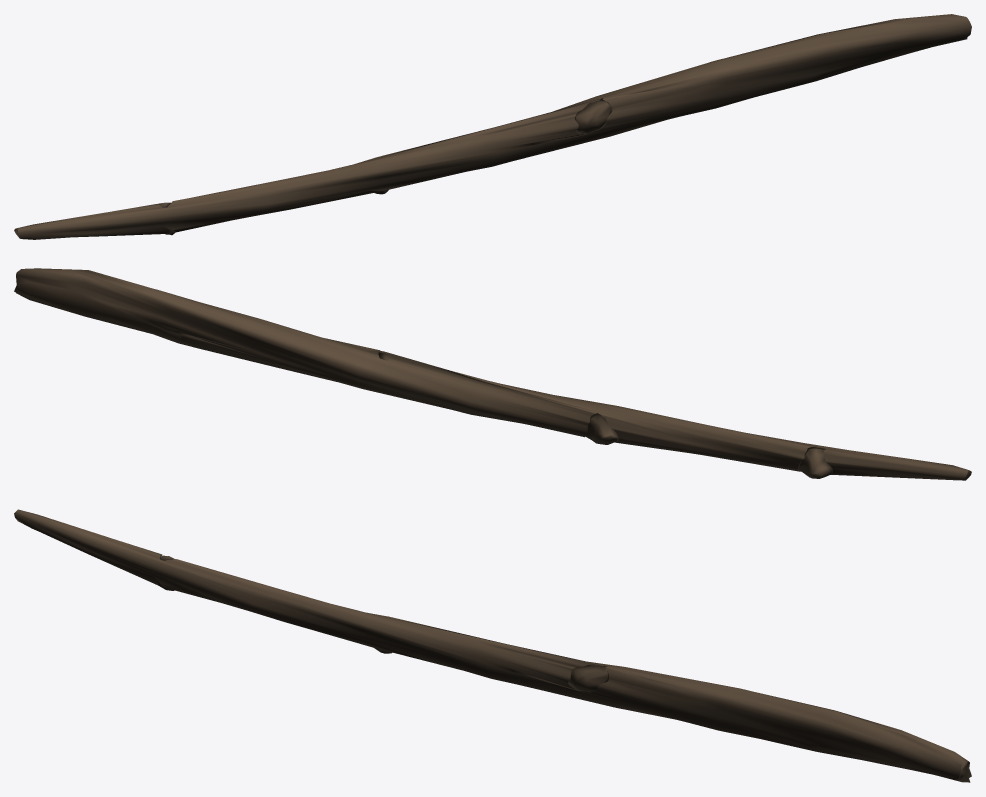
The model's file is trees-dead-trees-wood-dead-branch_v7.fbx.
3 views of the same model, one above another, from view 1: azimuth 30°, elevation 25°; view 2: azimuth 150°, elevation 25°; view 3: azimuth 330°, elevation 25° (orthographic).
Visible parts, largest first — view 1: Dead Branch_v7; view 2: Dead Branch_v7; view 3: Dead Branch_v7.
Part boxes in pixels (left/top/right/bottom): Dead Branch_v7: left=14, top=14, right=971, bottom=239; Dead Branch_v7: left=14, top=268, right=971, bottom=480; Dead Branch_v7: left=14, top=509, right=971, bottom=782.
Bounding box in the file's own units: 1.5 × 0.0873 × 0.0743.
